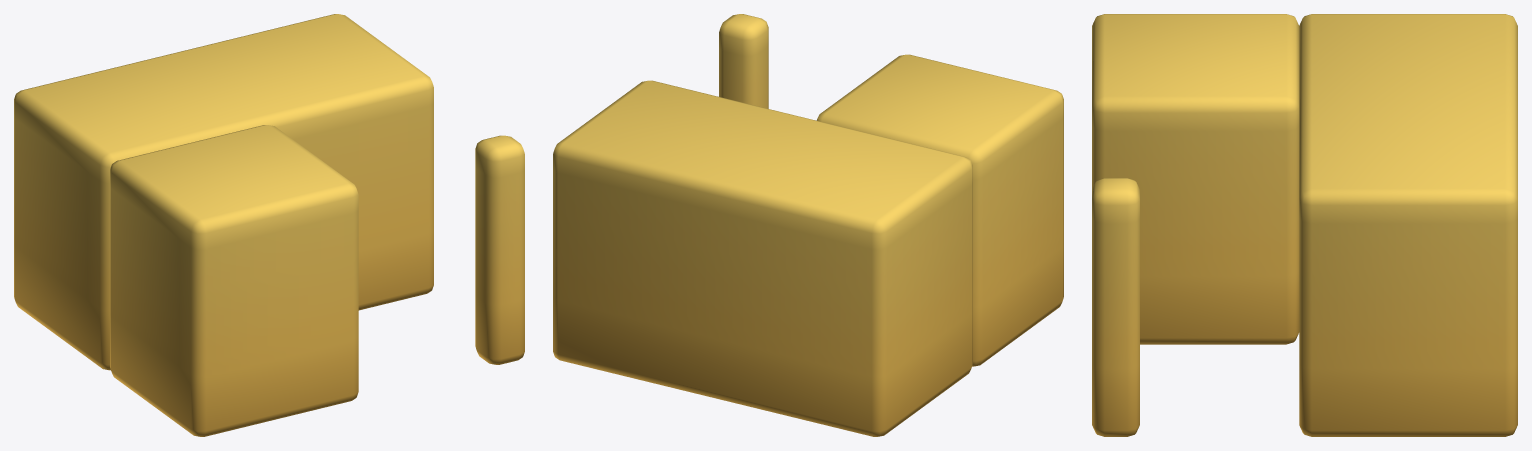
The model's file is mct_homepart_room04b.fbx.
3 renders of one model, left to right at view 1: azimuth 30°, elevation 25°; view 2: azimuth 150°, elevation 25°; view 3: azimuth 270°, elevation 25°, orthographic. The views are drawn at different scales.
Parts seen in each view (by area): view 1: room_04b; view 2: room_04b; view 3: room_04b.
Part boxes in pixels (box(x1,y1,x2,y2)): room_04b: box(14, 14, 524, 436); room_04b: box(553, 14, 1063, 436); room_04b: box(1092, 14, 1517, 436).
Size of the model in its own units: 400 by 250 by 389.
